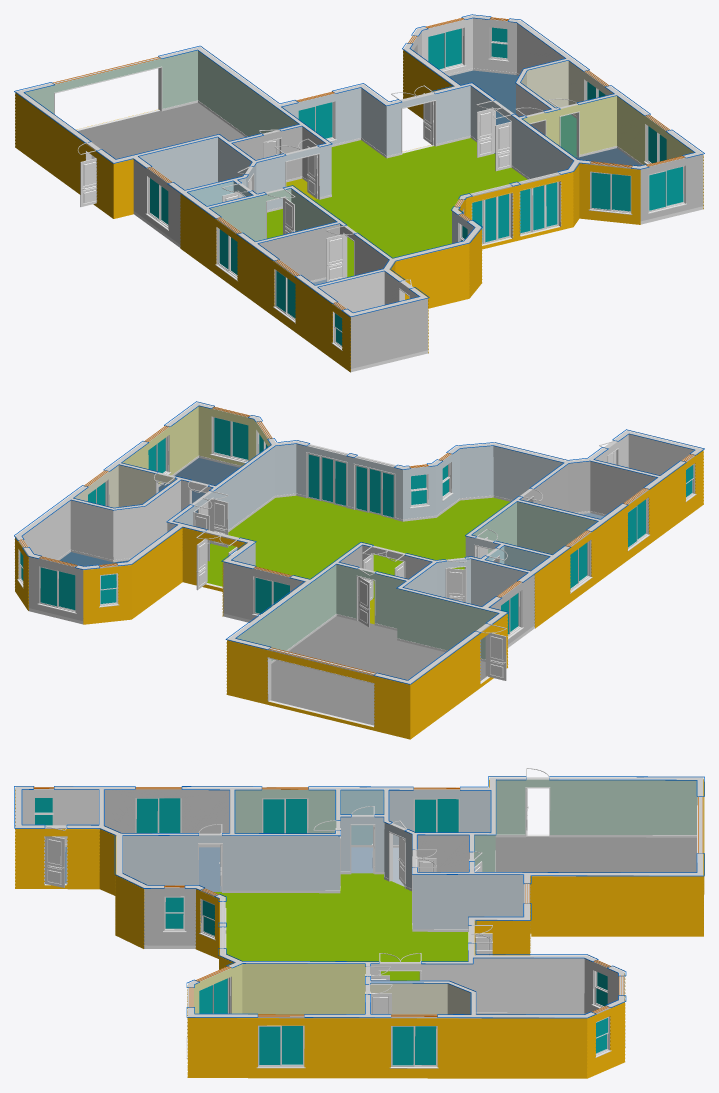
Rendered from floor_scene.glb.
3 views of the same model, one above another, from view 1: azimuth 30°, elevation 25°; view 2: azimuth 150°, elevation 25°; view 3: azimuth 270°, elevation 25° (orthographic). The views are drawn at different scales.
Visible parts, largest first — view 1: Walls.001, Floor.001, Clad.001, Windows and doors.001, CAD Plan.001, Trims.001, BaseBoards.001; view 2: Walls.001, Floor.001, Clad.001, Windows and doors.001, CAD Plan.001, Trims.001, BaseBoards.001, Ledge.001; view 3: Walls.001, Clad.001, Floor.001, Windows and doors.001, CAD Plan.001, BaseBoards.001, Trims.001, Ledge.001.
Boxes of the visible parts, <box> form: Walls.001: <box>16,15,703,368</box>; Floor.001: <box>75,70,703,372</box>; Clad.001: <box>15,50,703,372</box>; Windows and doors.001: <box>80,27,684,348</box>; CAD Plan.001: <box>14,14,704,317</box>; Trims.001: <box>54,66,579,301</box>; BaseBoards.001: <box>162,68,642,282</box>; Walls.001: <box>15,402,703,684</box>; Floor.001: <box>28,458,603,727</box>; Clad.001: <box>14,450,703,739</box>; Windows and doors.001: <box>19,416,694,680</box>; CAD Plan.001: <box>14,401,704,684</box>; Trims.001: <box>155,448,618,726</box>; BaseBoards.001: <box>57,455,606,663</box>; Ledge.001: <box>17,454,696,639</box>; Walls.001: <box>15,777,703,1050</box>; Clad.001: <box>15,778,704,1078</box>; Floor.001: <box>45,834,696,980</box>; Windows and doors.001: <box>33,788,609,1066</box>; CAD Plan.001: <box>14,768,704,1018</box>; BaseBoards.001: <box>65,834,696,1014</box>; Trims.001: <box>44,787,697,1014</box>; Ledge.001: <box>163,930,625,1068</box>.
Bounding box in the file's own units: 14.95 × 1.75 × 17.5.
